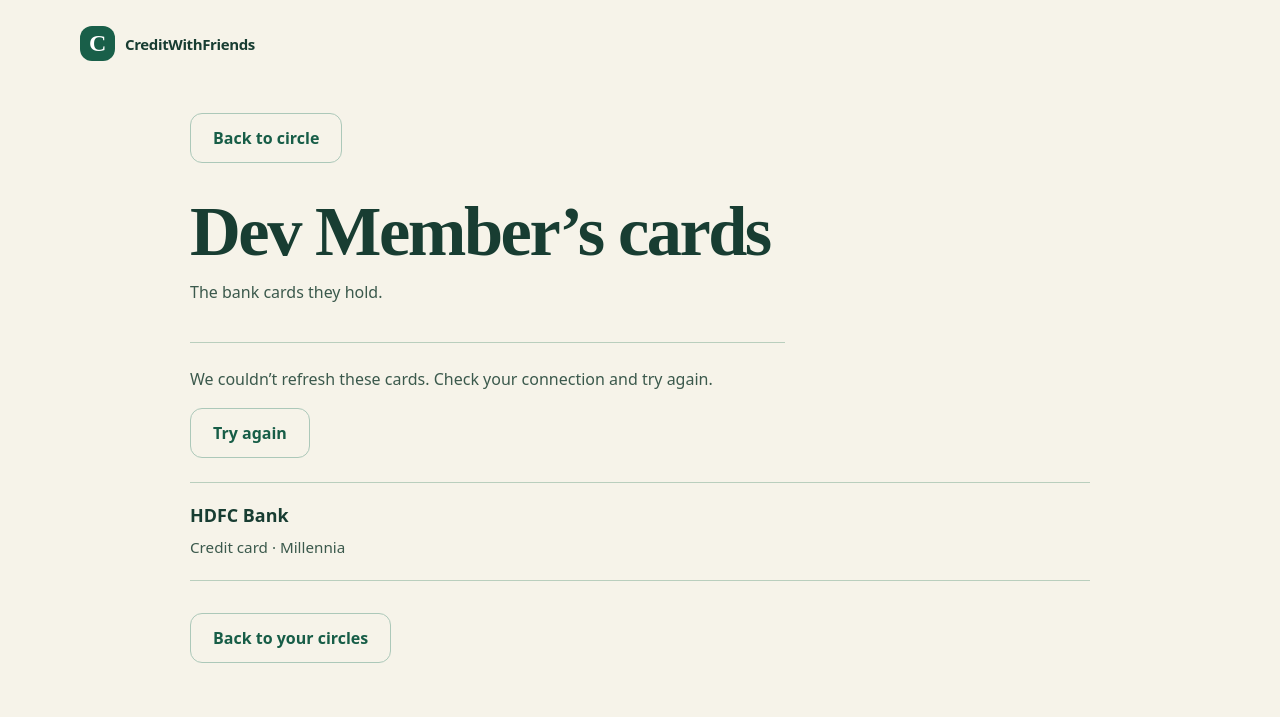
Test case: done-when-4: a failed background refresh keeps shown cards but not-found hides cached member data
Expected: the list named "Member cards" is shown, left=190, top=482, right=1090, bottom=581
Expected: the message shows "We couldn’t refresh these cards.", left=190, top=368, right=713, bottom=390
Click the button "Try again".
click(250, 433)  # box left=190, top=408, right=310, bottom=458
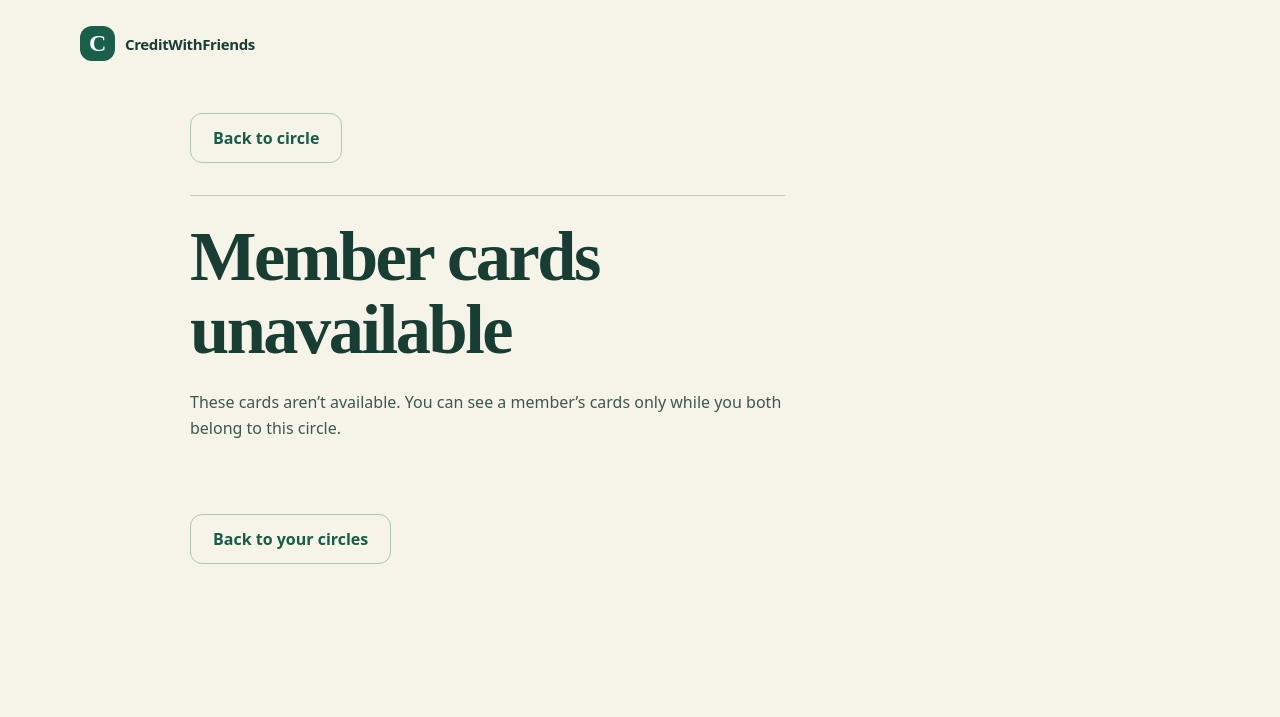
Expected: the heading "Member cards unavailable" is shown, left=190, top=217, right=599, bottom=368
Expected: the heading "Dev Member’s cards" is gone
